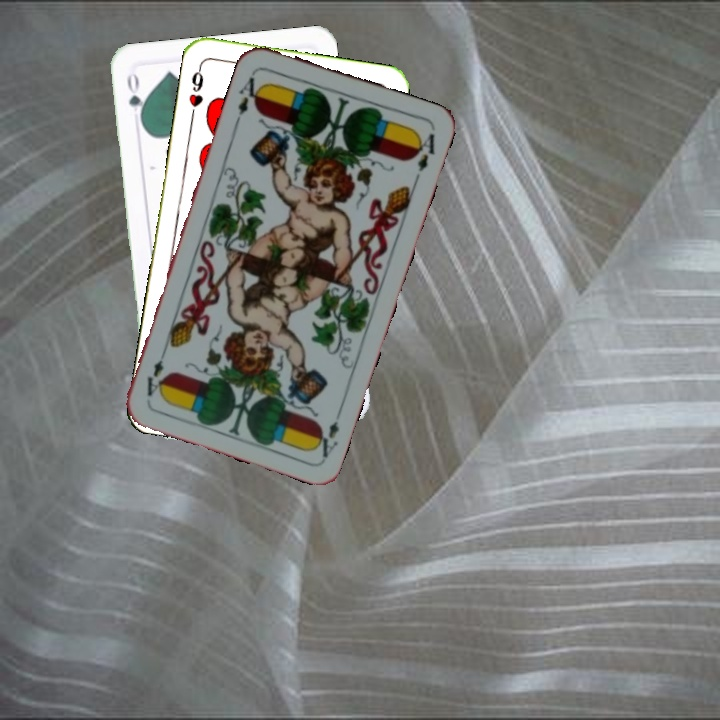EA: (231, 68, 265, 126), (310, 404, 345, 460)
GO: (123, 68, 148, 127)
H9: (184, 61, 206, 120)
